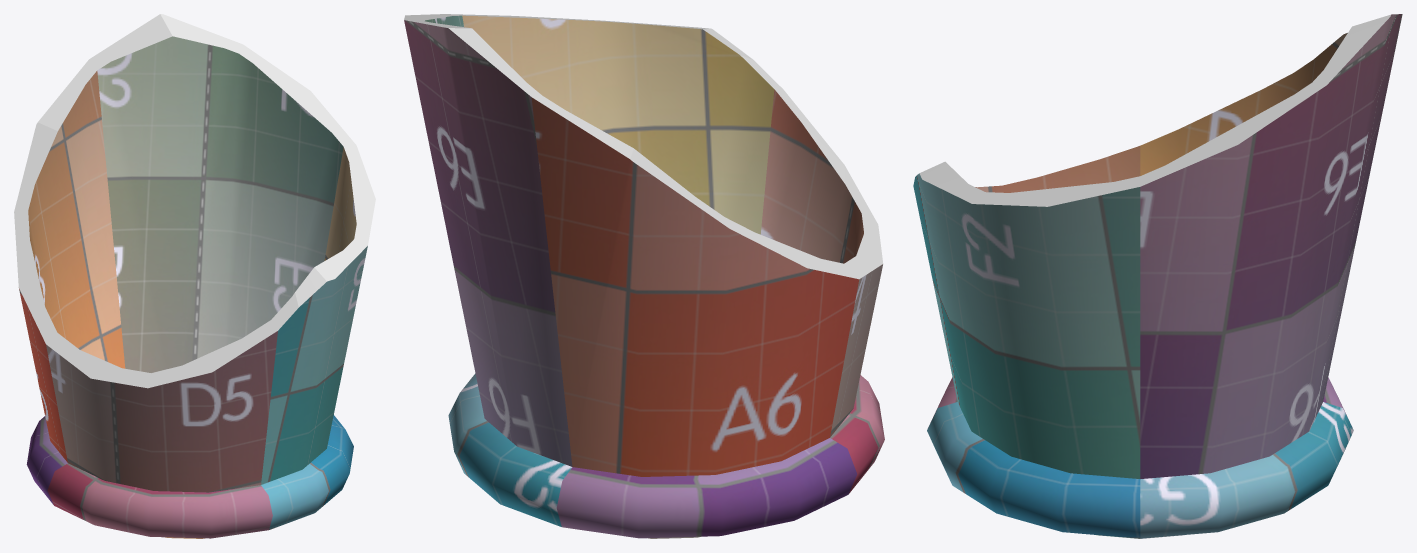
The model's file is MediumVase_SHAT_cell_013.fbx.
The picture shows the model from 3 angles, left to right: view 1: azimuth 30°, elevation 25°; view 2: azimuth 150°, elevation 25°; view 3: azimuth 270°, elevation 25°; orthographic projection. The views are drawn at different scales.
Parts seen in each view (by area): view 1: MediumVase_SHAT_cell_013; view 2: MediumVase_SHAT_cell_013; view 3: MediumVase_SHAT_cell_013.
Boxes of the visible parts, box(x1,y1,x2,y2) form: MediumVase_SHAT_cell_013: box(14, 14, 375, 538); MediumVase_SHAT_cell_013: box(404, 14, 884, 538); MediumVase_SHAT_cell_013: box(913, 14, 1402, 538).
Size of the model in its own units: 0.8311 by 1.02 by 0.8762.
2 materials, 1 textured.
